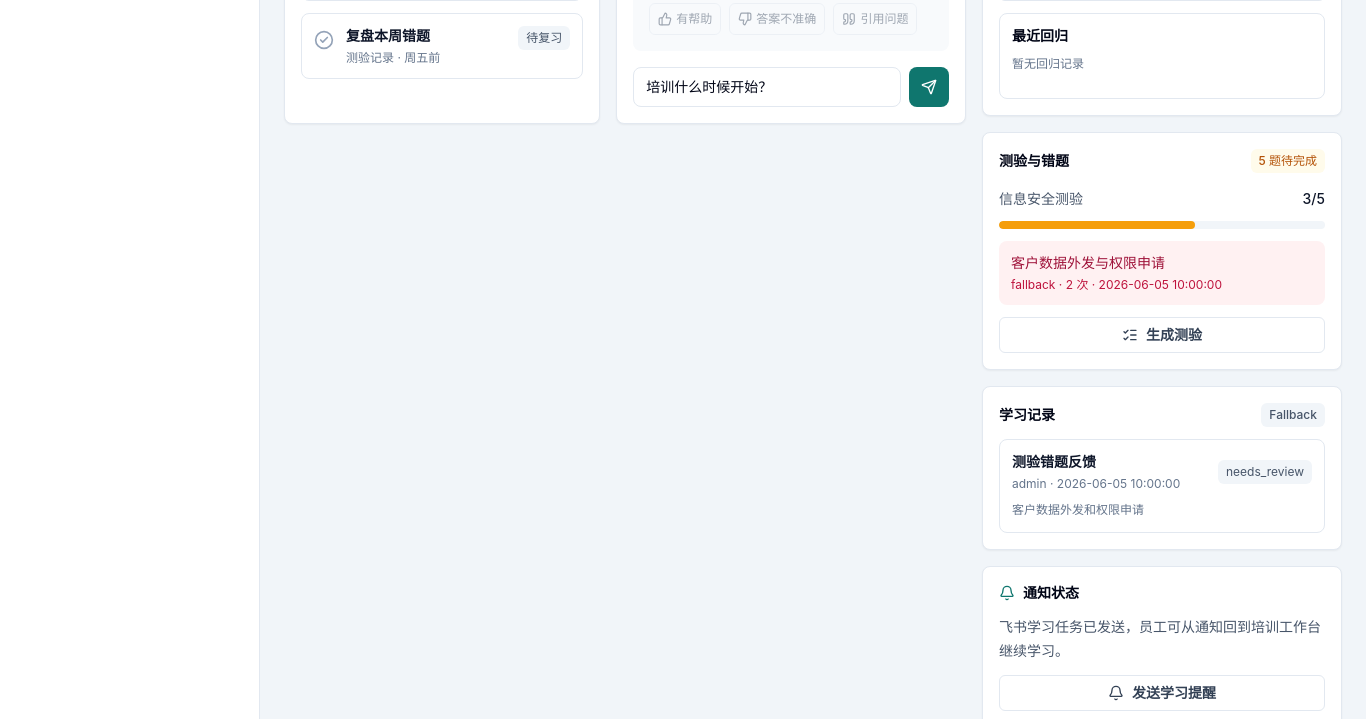
Scenario: Training home page › runs the quiz skill from the customer workbench with a bounded agent budget
The image size is (1366, 719).
(page scrolled)
Click the button "生成测验". click: (1162, 335)
box: [999,317,1325,353]
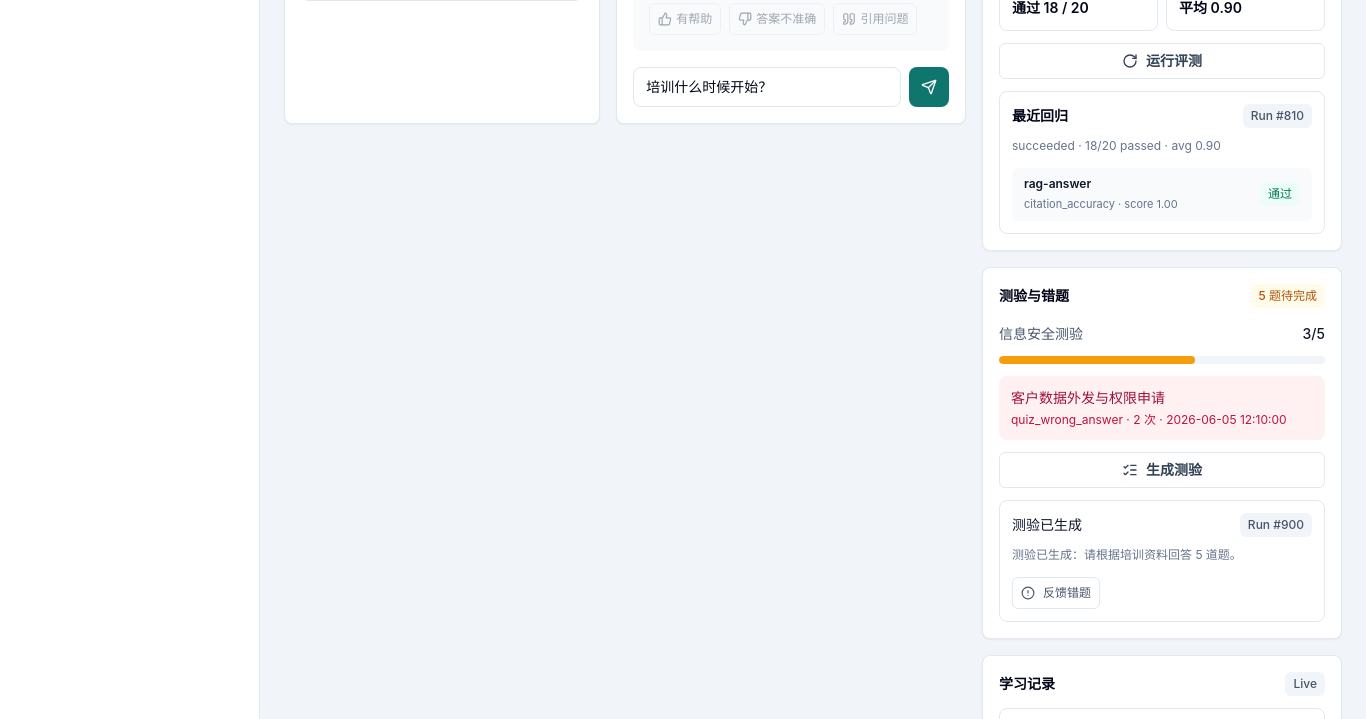
Result: the text "测验已生成" is shown at [1012,514,1082,534]
Result: the text "Run #900" is shown at [1240,512,1312,536]
